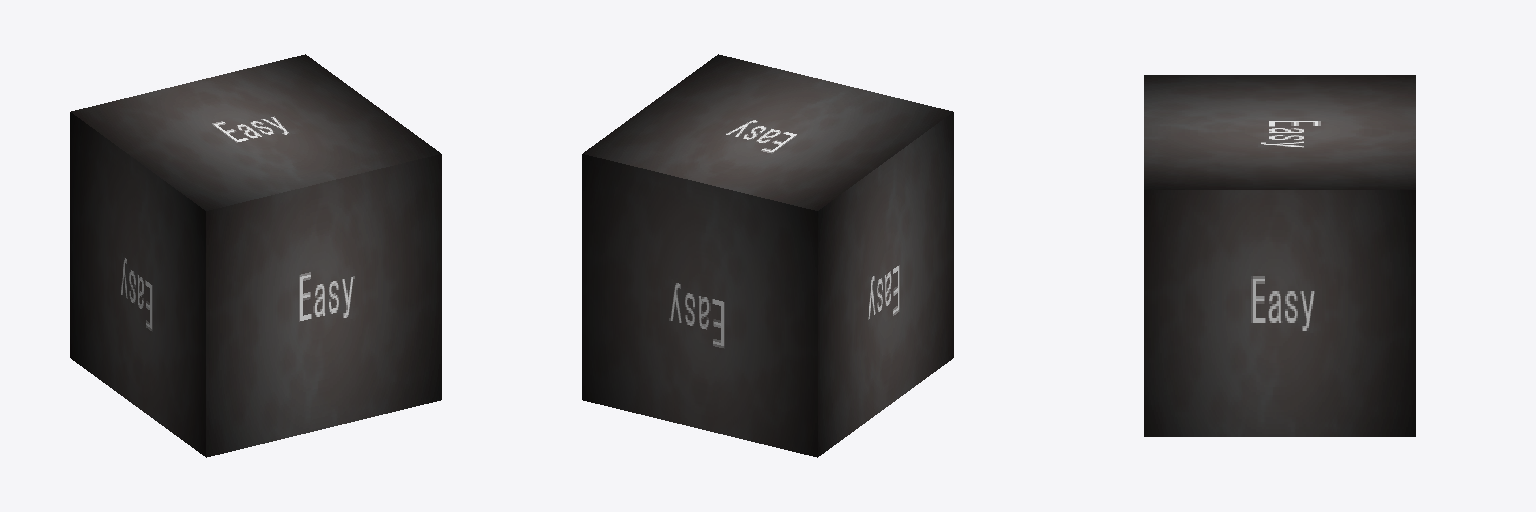
3 renders of one model, left to right at view 1: azimuth 30°, elevation 25°; view 2: azimuth 150°, elevation 25°; view 3: azimuth 270°, elevation 25°, orthographic.
Visible parts, largest first — view 1: Cube; view 2: Cube; view 3: Cube.
Boxes of the visible parts, <box> form: Cube: <box>70,54,441,457</box>; Cube: <box>582,54,953,457</box>; Cube: <box>1144,75,1415,436</box>.
Size of the model in its own units: 2 by 2 by 2.
1 materials, 1 textured.